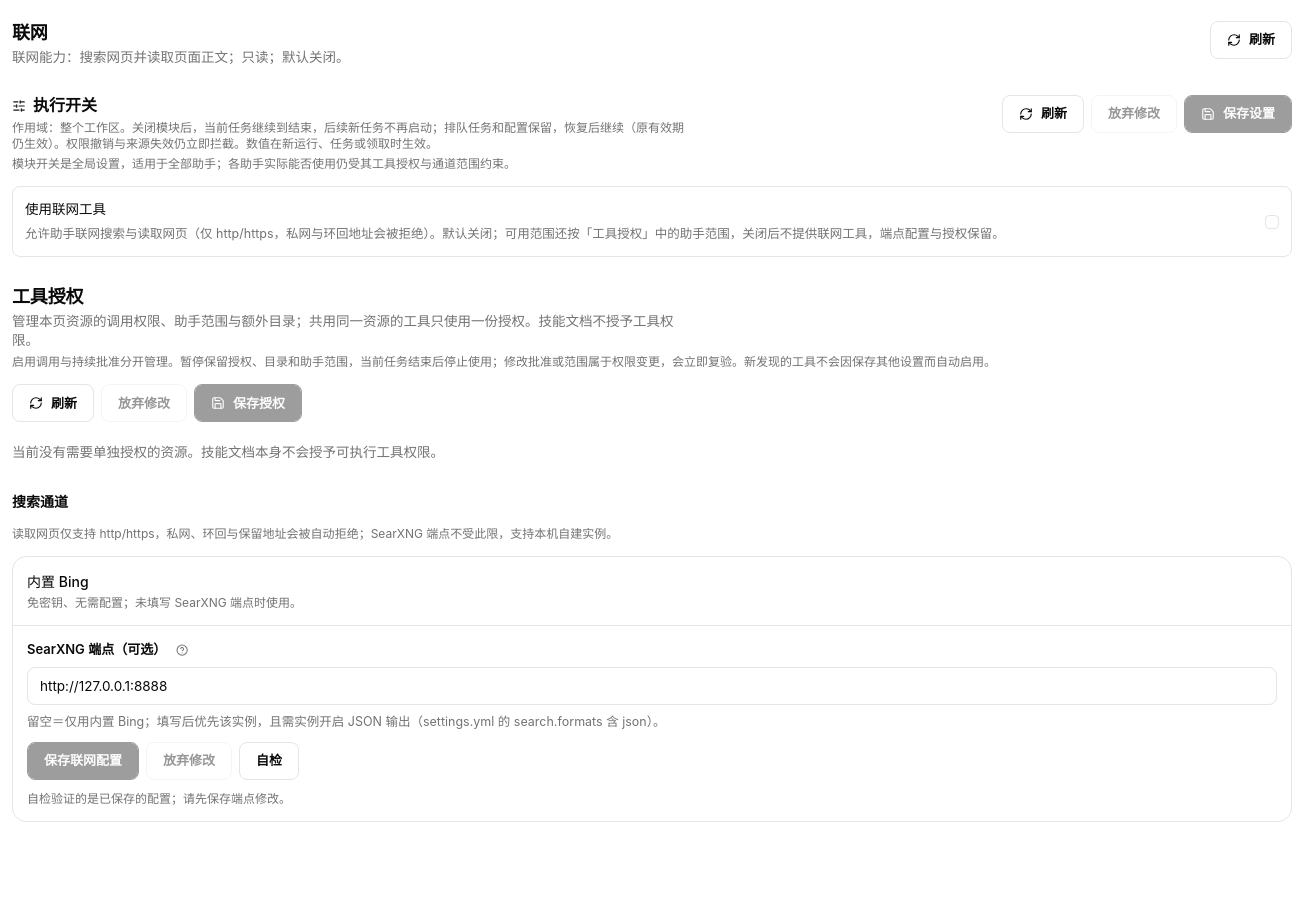
Test case: web access panel › loads the saved endpoint and only enables save for a changed draft
The image size is (1304, 900).
Expected: the button "保存联网配置" is disabled, [27,742,139,780]
Type "http://127.0.0.1:9999" into the field labelled "SearXNG 端点（可选）". click: (652, 686)
box: [27,666,1277,704]
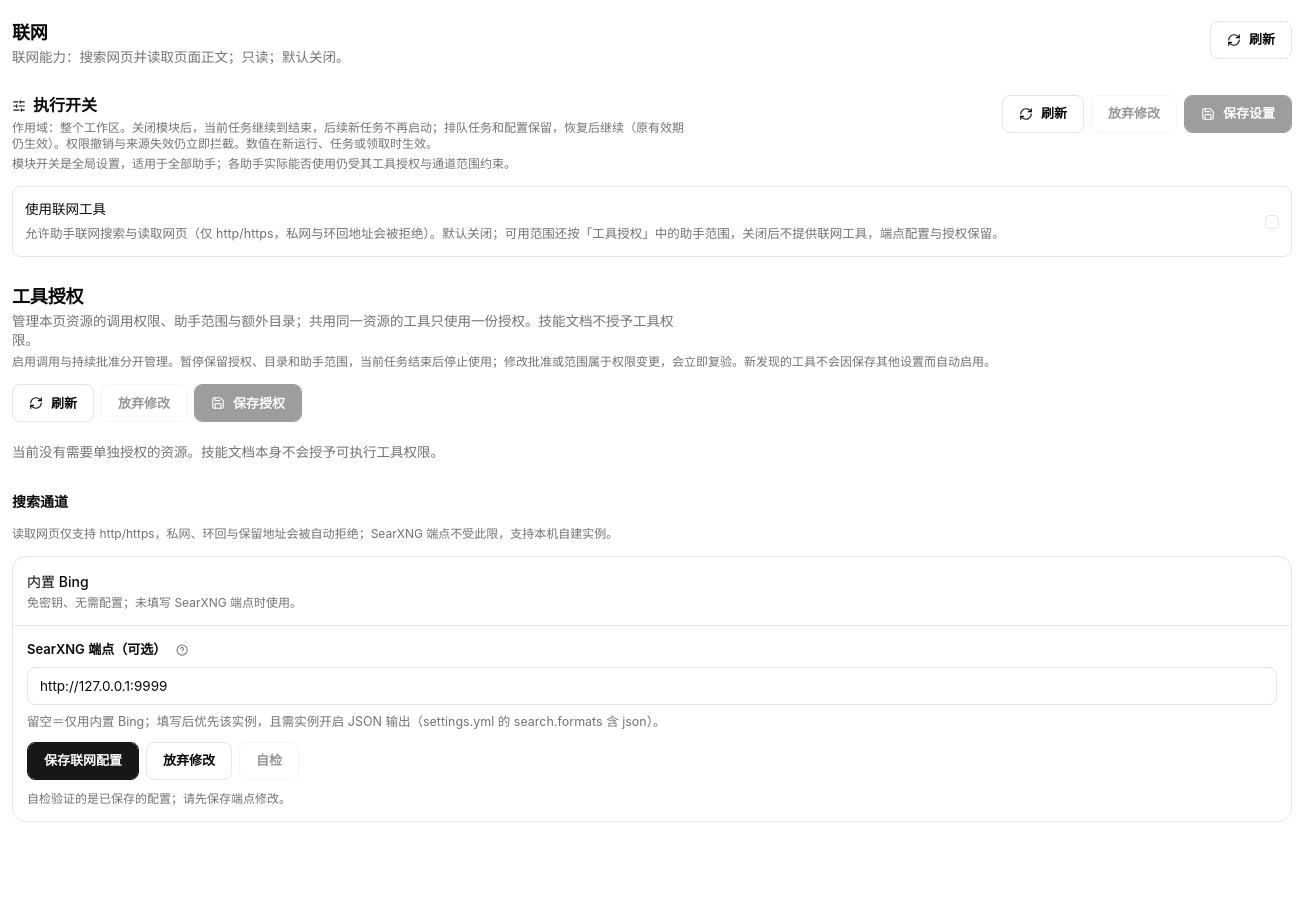
Now the button "保存联网配置" is enabled, box [27,742,139,780]
Replace the text in the field labelled "SearXNG 端点（可选）" with "http://127.0.0.1:8888". click: (652, 686)
box: [27,666,1277,704]
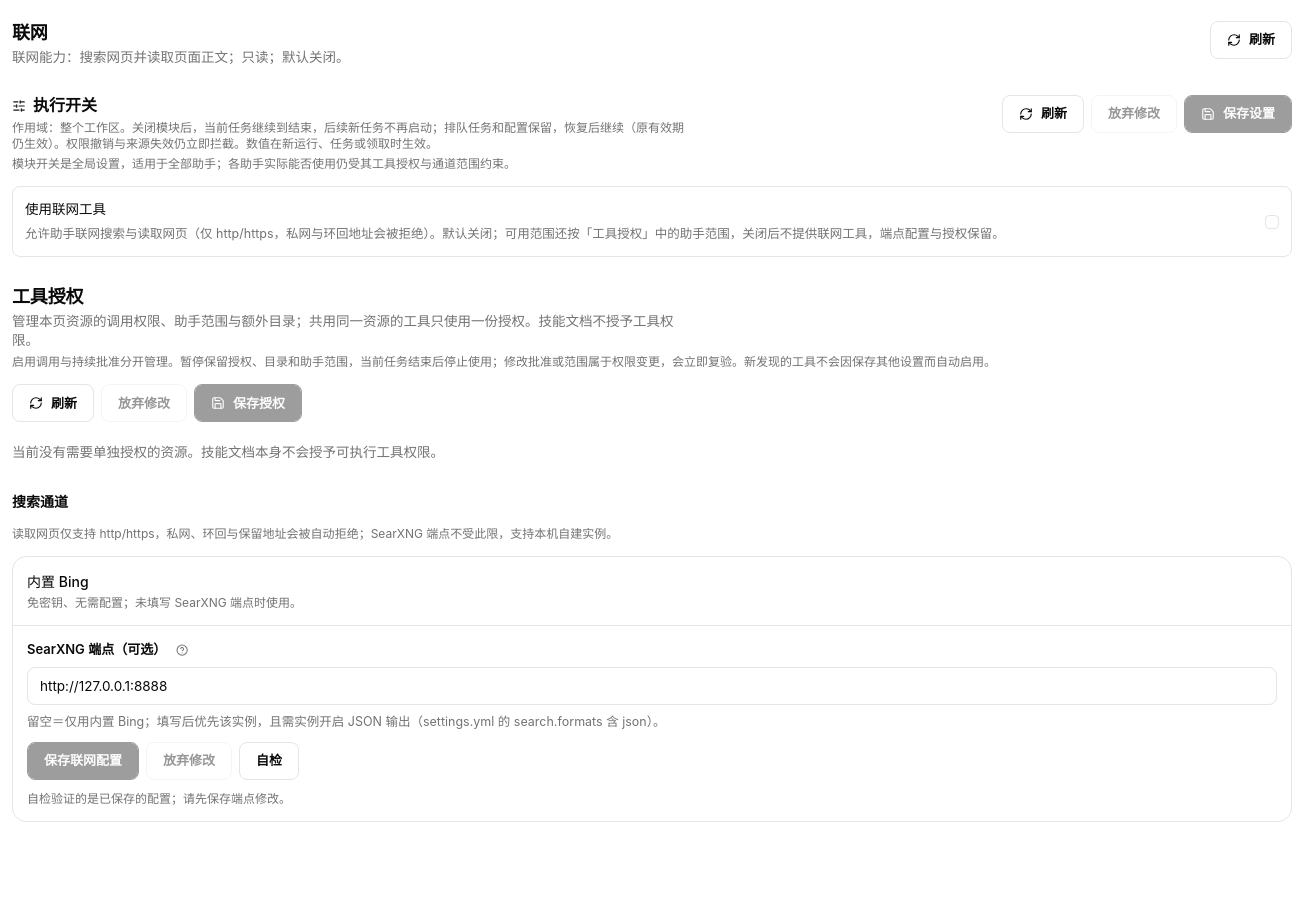
Now the button "保存联网配置" is disabled, box [27,742,139,780]
